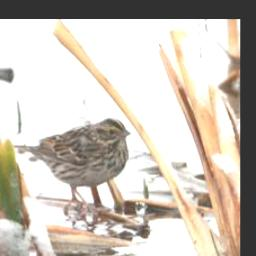Sparrow: (12, 116, 133, 219)
